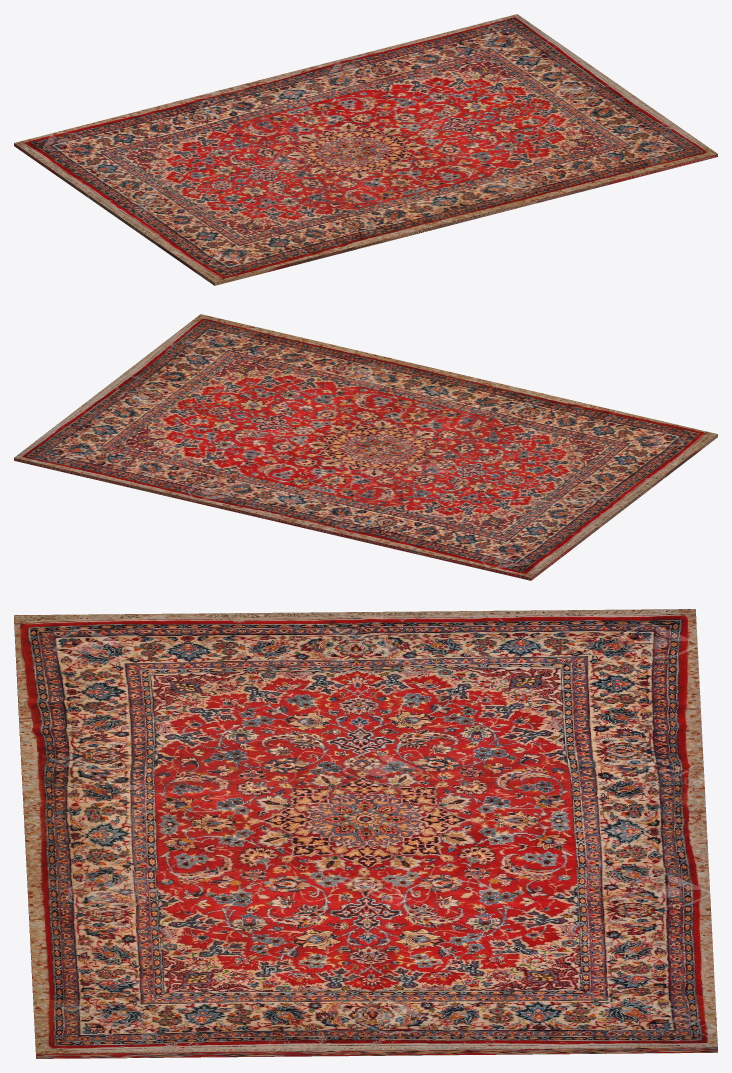
File: carpet.glb
The picture shows the model from 3 angles, top to bottom: view 1: azimuth 30°, elevation 25°; view 2: azimuth 150°, elevation 25°; view 3: azimuth 270°, elevation 25°; orthographic projection. The views are drawn at different scales.
Parts seen in each view (by area): view 1: Carpet; view 2: Carpet; view 3: Carpet.
Boxes of the visible parts, box(x1,y1,x2,y2) form: Carpet: box(14, 14, 717, 285); Carpet: box(14, 314, 717, 580); Carpet: box(14, 609, 717, 1058).
Size of what is drawn, in the model's own units: 5.7 by 0.0324 by 3.81.
1 material, 1 textured.
